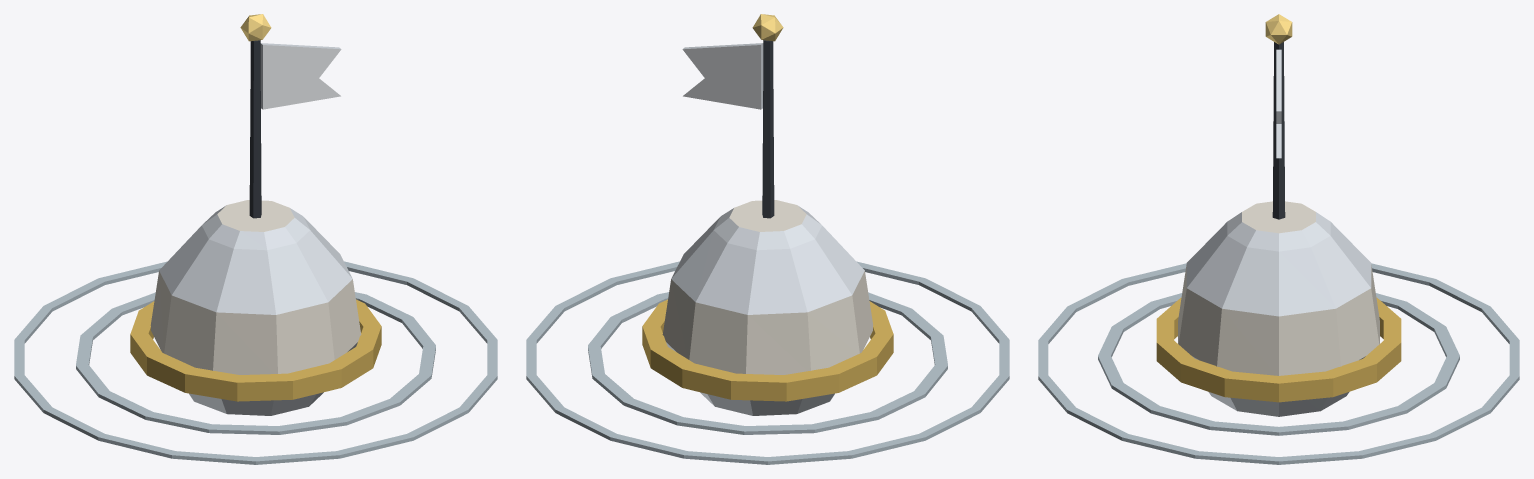
Rendered from FishingBuoy.obj.
The picture shows the model from 3 angles, left to right: view 1: azimuth 30°, elevation 25°; view 2: azimuth 150°, elevation 25°; view 3: azimuth 270°, elevation 25°; orthographic projection.
Bounding box in the file's own units: 3.78 × 3.3 × 3.72.
